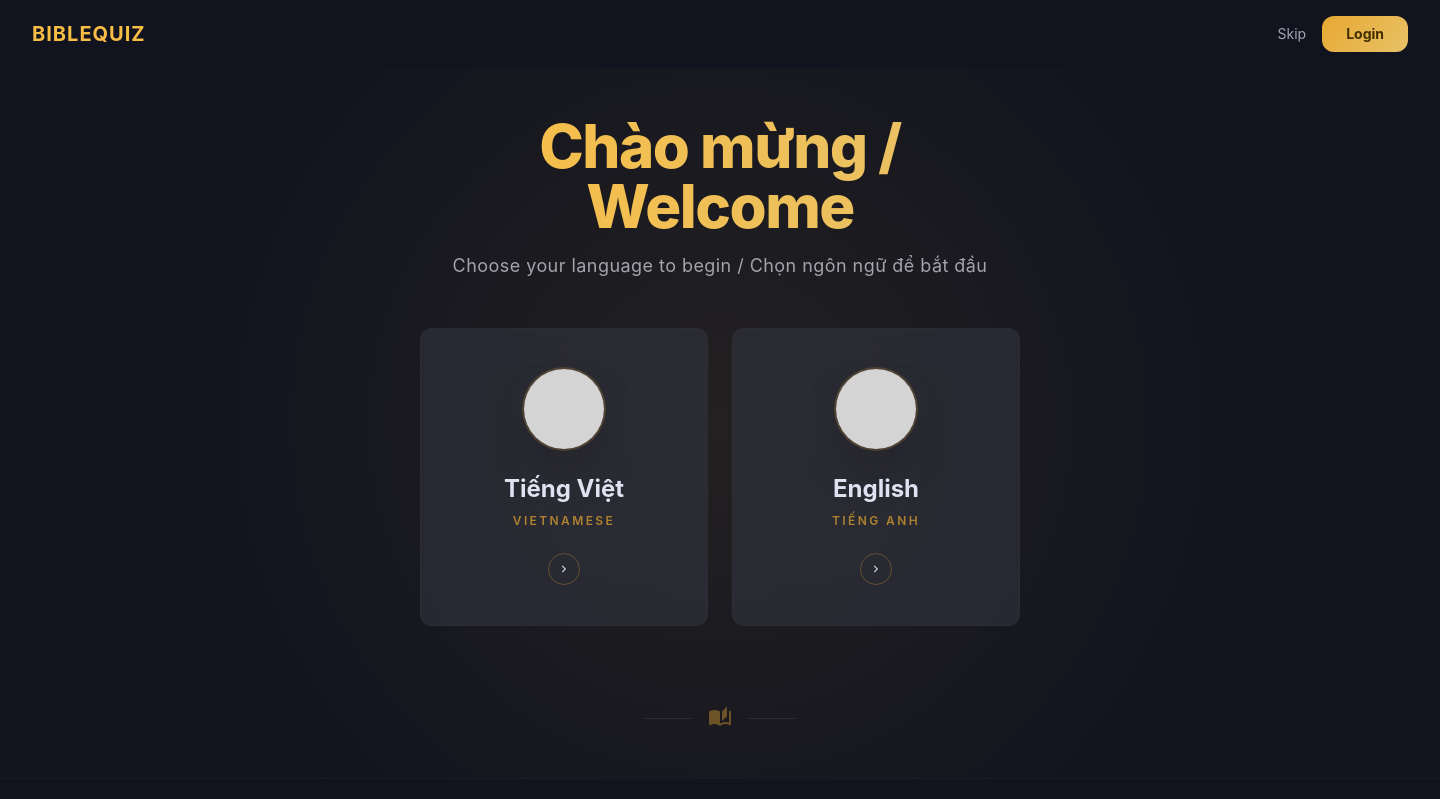
Test: Onboarding › Language Selection (step 0) › clicking Vietnamese advances to slide 1
Click the text "Tiếng Việt": (564, 489) [504, 473, 624, 505]
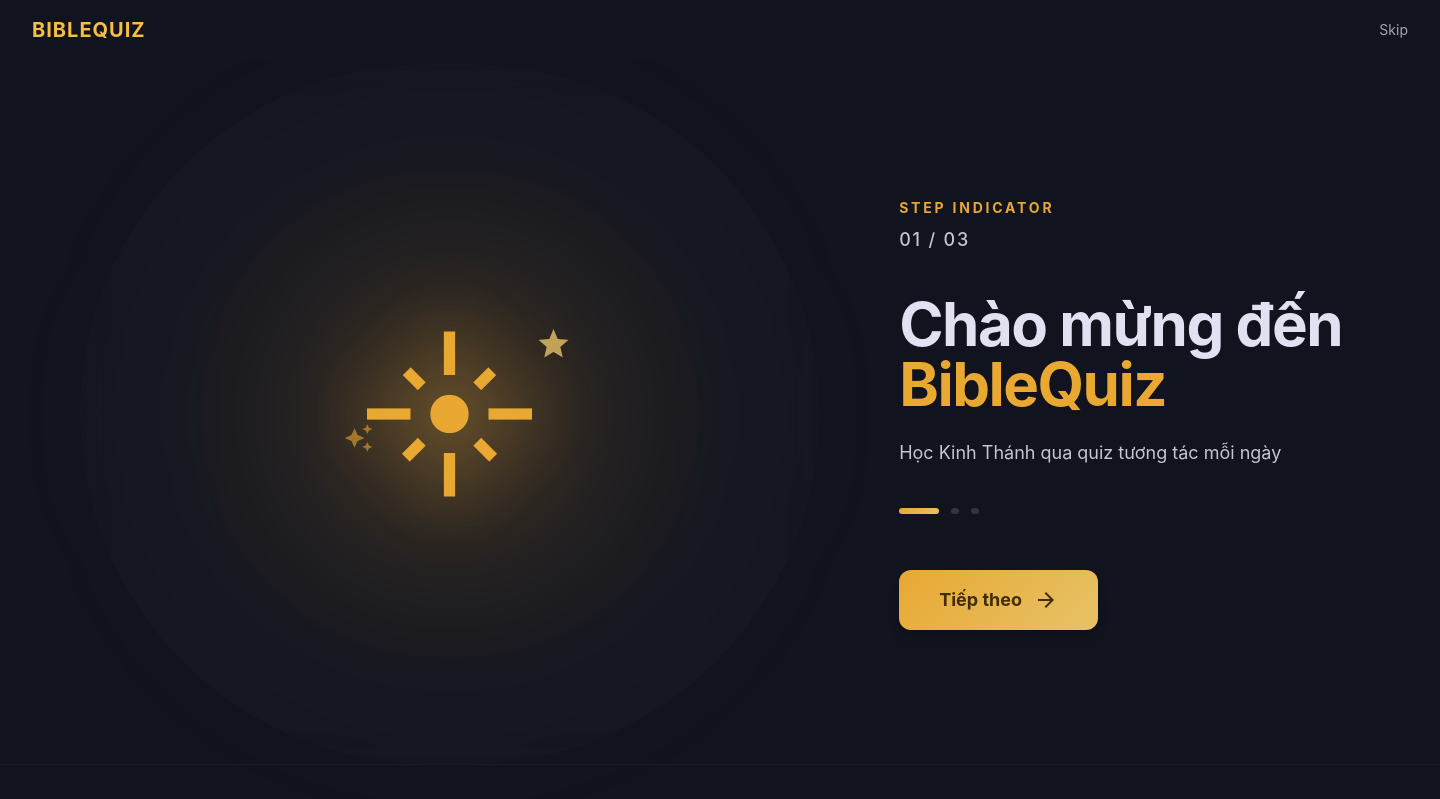
Check: the text "01 / 03" is shown, box [899, 229, 970, 250]
